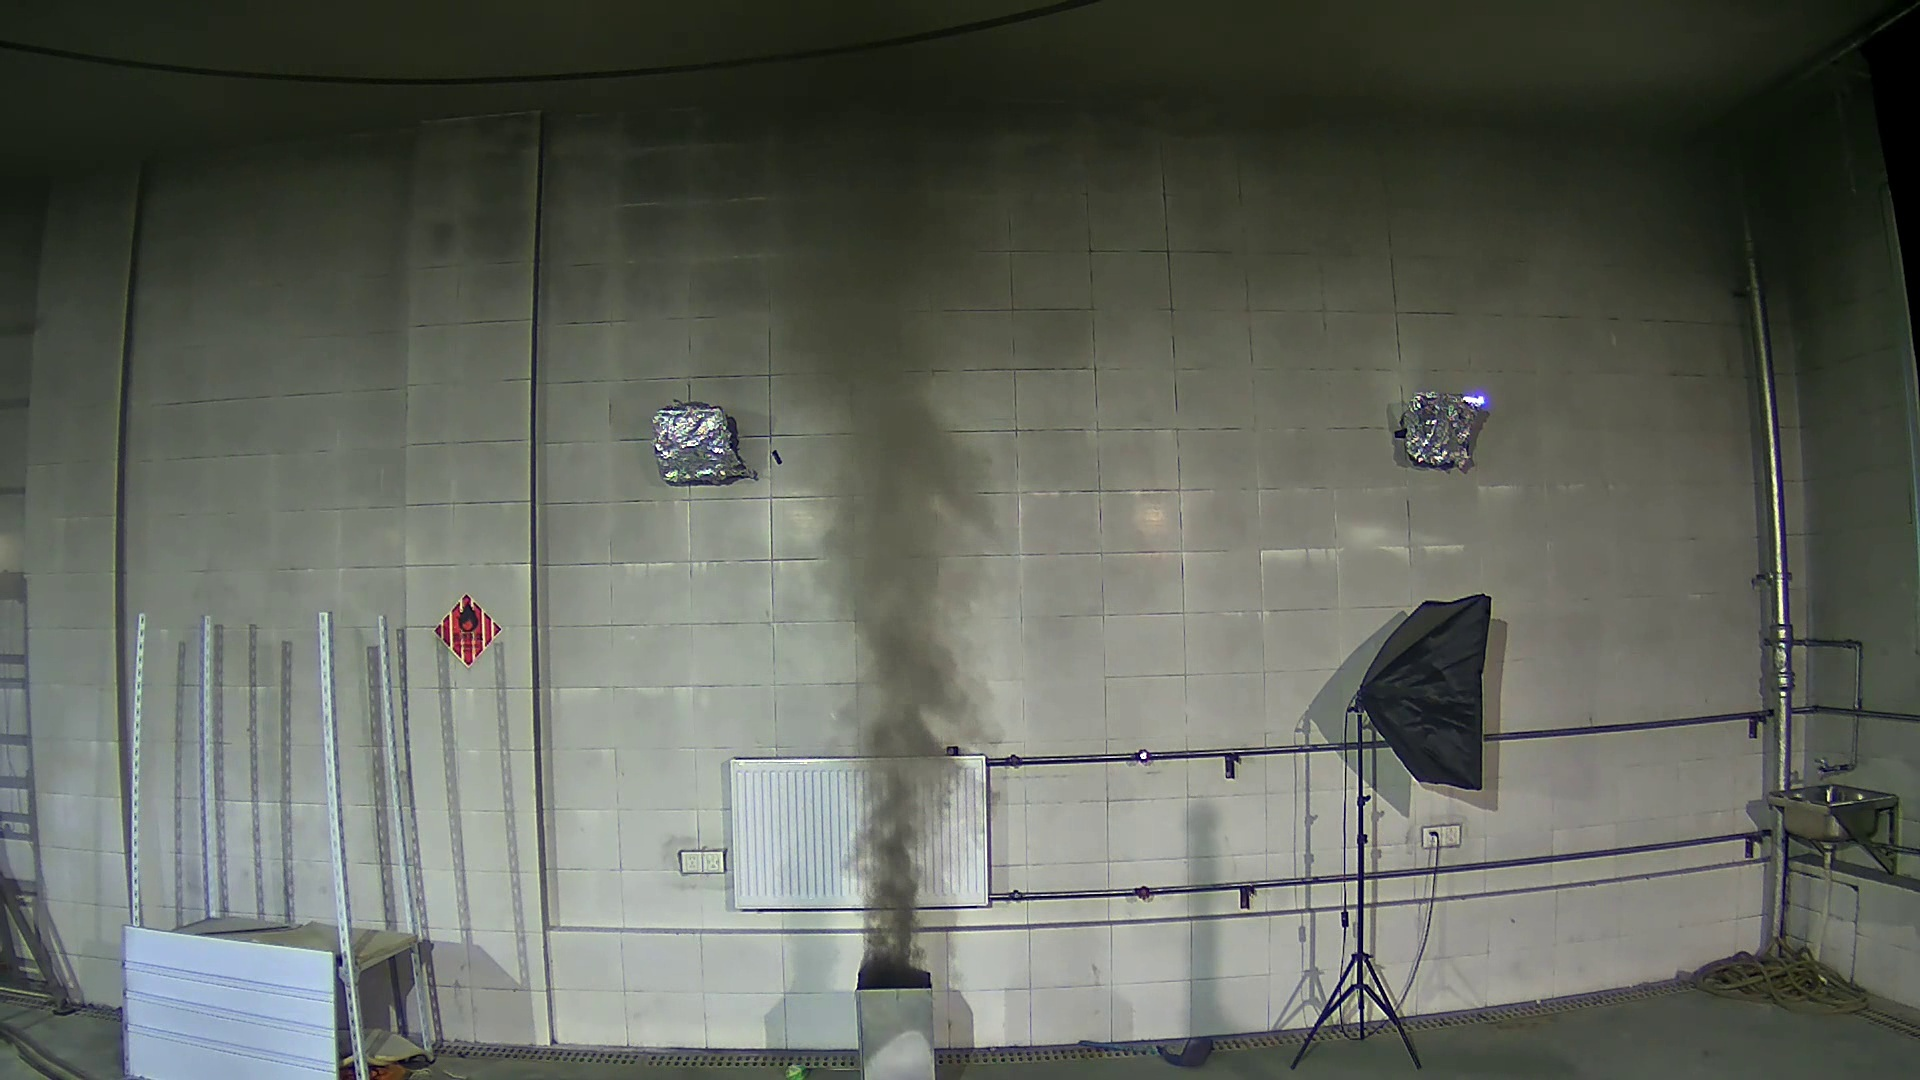smoke: (764, 253, 1081, 978)
